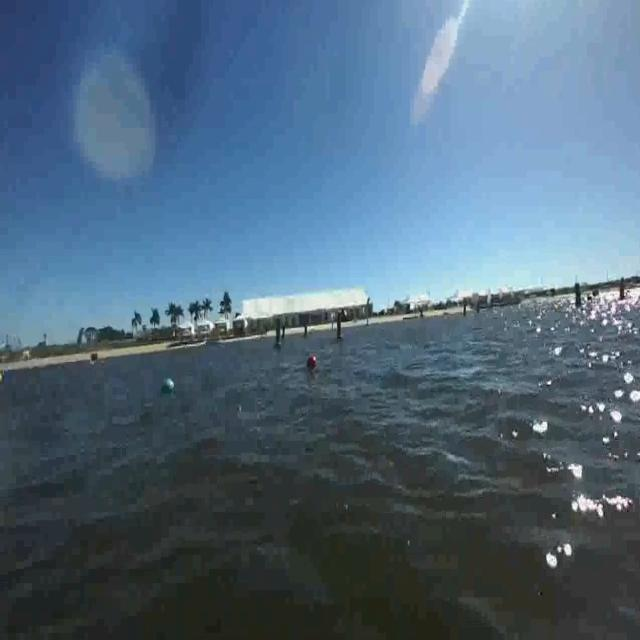green-buoy: (163, 378, 174, 394)
green-column-buoy: (274, 324, 284, 351)
red-buoy: (307, 357, 314, 367)
red-column-buoy: (618, 275, 629, 303)
yellow-buoy: (0, 366, 5, 386)
